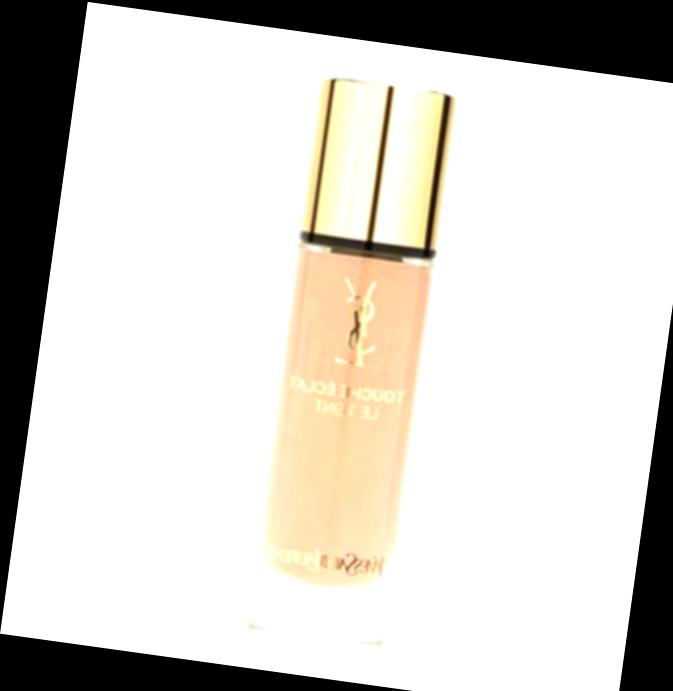cosmetic: (235, 70, 461, 659)
